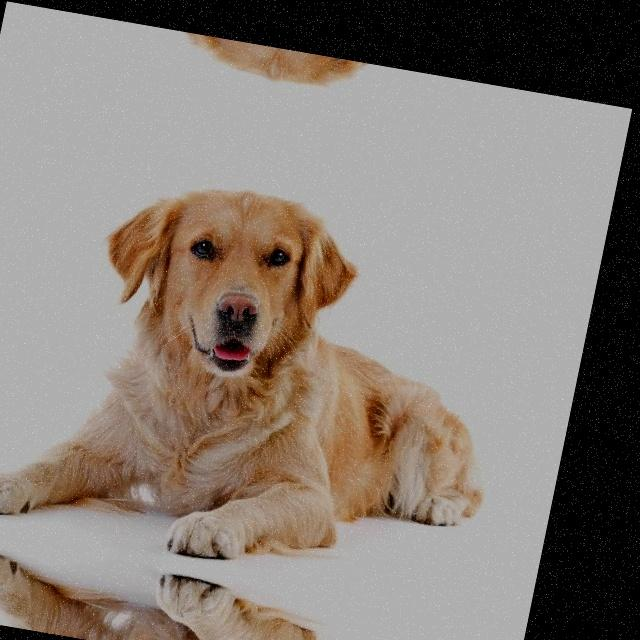dog: (0, 141, 530, 611), (24, 5, 558, 134), (0, 522, 453, 640)
